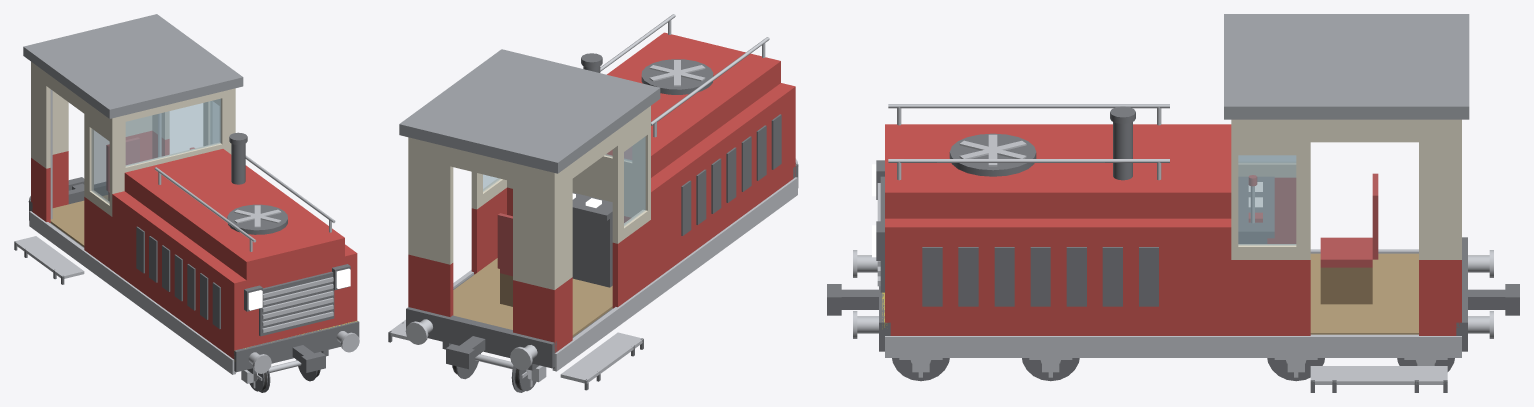
The model's file is train_locomotive.glb.
3 views of the same model, side by side, from view 1: azimuth 30°, elevation 25°; view 2: azimuth 150°, elevation 25°; view 3: azimuth 270°, elevation 25° (orthographic). The views are drawn at different scales.
Visible parts, largest first — view 1: body, wheel_6; view 2: body, wheel_0; view 3: body, wheel_7, wheel_5, wheel_3.
Boxes of the visible parts, bbox=[...] form: body: bbox=[14, 14, 359, 383]; wheel_6: bbox=[249, 370, 270, 392]; body: bbox=[388, 14, 798, 390]; wheel_0: bbox=[511, 365, 536, 392]; body: bbox=[827, 14, 1519, 392]; wheel_7: bbox=[892, 358, 949, 381]; wheel_5: bbox=[1022, 358, 1079, 381]; wheel_3: bbox=[1267, 358, 1324, 381].
Size of the model in its own units: 1.9 by 2.32 by 4.8.
